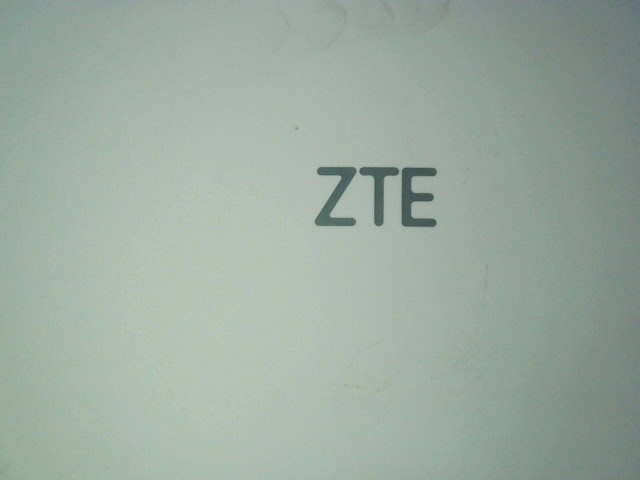AN_ZTE: (307, 164, 443, 236)
